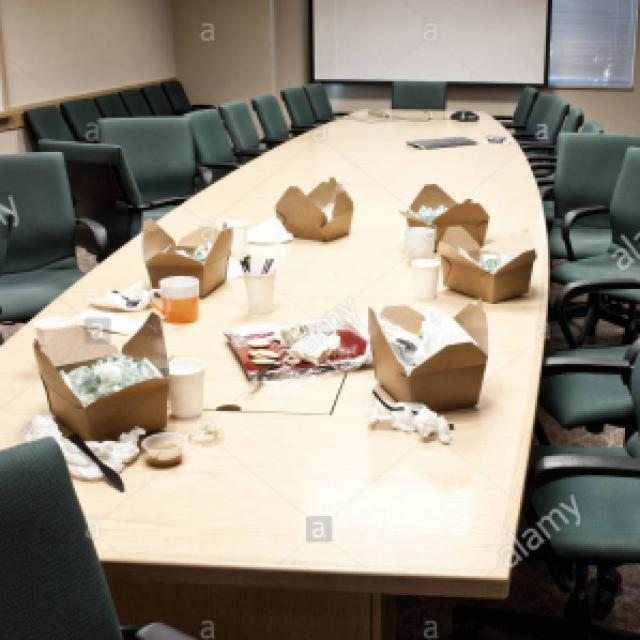mess: (7, 333, 507, 570), (330, 112, 536, 324), (243, 165, 437, 334), (137, 227, 362, 311)
